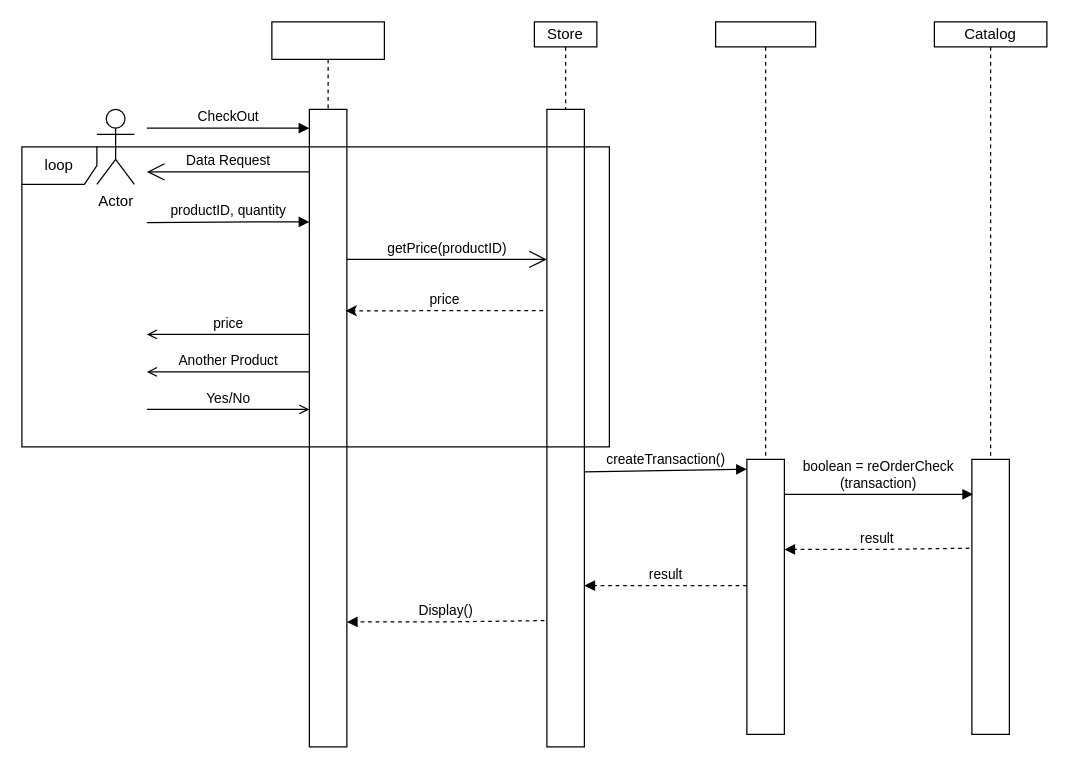
Image size: 1069x769. Some labels were removed from this diagram. Here are the shapes that lost their labels. From the top down, the box of each, then its label:
(271, 21, 384, 59): User Interface
(714, 21, 816, 47): Transaction
